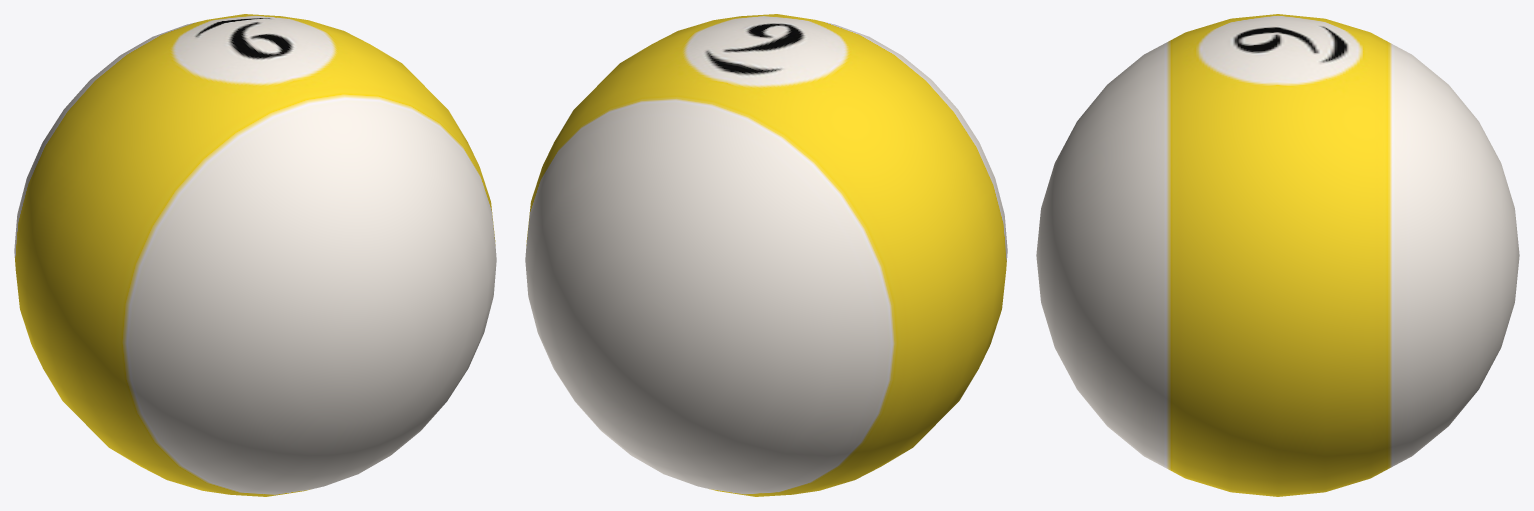
File: Billiard Ball 9.glb
3 renders of one model, left to right at view 1: azimuth 30°, elevation 25°; view 2: azimuth 150°, elevation 25°; view 3: azimuth 270°, elevation 25°, orthographic.
Visible parts, largest first — view 1: Ball9_15 - Default_0; view 2: Ball9_15 - Default_0; view 3: Ball9_15 - Default_0.
Boxes of the visible parts, <box> form: Ball9_15 - Default_0: <box>14,14,496,496</box>; Ball9_15 - Default_0: <box>525,14,1007,496</box>; Ball9_15 - Default_0: <box>1036,14,1519,496</box>.
Bounding box in the file's own units: 37.86 × 37.86 × 37.86.
1 material, 1 textured.
